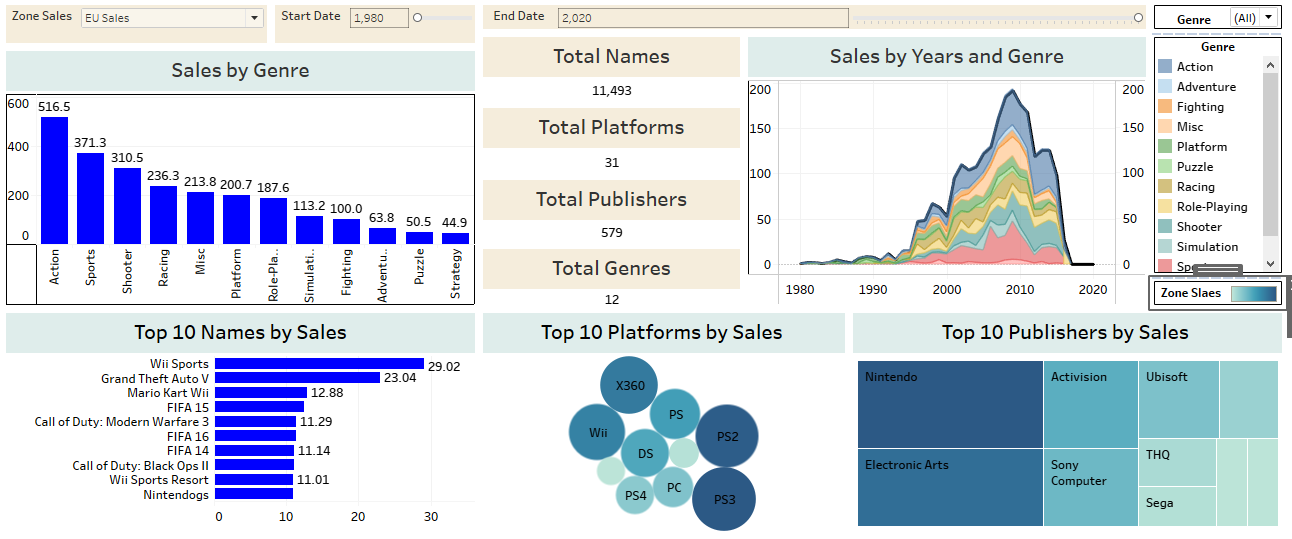

This screenshot's page, from the dashboard's own definition file:
{"tool":"tableau","page":{"name":"Video Games Sales Dashboard","canvas":[1300,550],"ordinal":0},"visuals":[{"type":"parameter","param":"[Parameters].[Parameter 1]","box":[8,8,269,46.3]},{"type":"parameter","param":"[Parameters].[Parameter 2]","box":[277,8,208,46.3]},{"type":"parameter","param":"[Parameters].[Parameter 3]","box":[485,8,671,32]},{"type":"filter","title":"Sales by Years and Genre","param":"[federated.0exvyeo1yf71ah165yyhm1jmh21s].[none:Genre:nk]","box":[1156,8,136,32]},{"type":"worksheet","title":"Total Names","mark":"Automatic","box":[485,40,265,71]},{"type":"worksheet","title":"Sales by Years and Genre","mark":"Automatic","rows":["Calculation_963207425173499904","Calculation_963207425173499904"],"cols":["Year"],"box":[750,40,406,276]},{"type":"legend","title":"Sales by Years and Genre","param":"[federated.0exvyeo1yf71ah165yyhm1jmh21s].[none:Genre:nk]","box":[1156,40,136,244]},{"type":"worksheet","title":"Sales by Genre","mark":"Automatic","rows":["Calculation_963207425173499904"],"cols":["Genre"],"box":[8,54.3,477,261.7]},{"type":"worksheet","title":"Total Platforms","mark":"Automatic","box":[485,111,265,72]},{"type":"worksheet","title":"Total Publishers","mark":"Automatic","box":[485,183,265,69]},{"type":"worksheet","title":"Total Genres","mark":"Automatic","box":[485,252,265,64]},{"type":"legend","title":"Top 10 Platforms by Sales ","param":"[federated.0exvyeo1yf71ah165yyhm1jmh21s].[sum:Calculation_963207425173499904:qk]","box":[1156,284,136,32]},{"type":"worksheet","title":"Top 10 Names by Sales","mark":"Automatic","rows":["Name"],"cols":["Calculation_963207425173499904"],"box":[8,316,477,226]},{"type":"worksheet","title":"Top 10 Platforms by Sales ","mark":"Circle","box":[485,316,370,226]},{"type":"worksheet","title":"Top 10 Publishers by Sales ","mark":"Automatic","box":[855,316,437,226]}]}

Visuals, with their boxes in screenshot pixels (x1, y1, x2, y2), scaled from the page's 1300x550 canvas onto the 1292x539 screenshot:
parameter: 8,8,275,53
parameter: 275,8,482,53
parameter: 482,8,1149,39
"Sales by Years and Genre" filter: 1149,8,1284,39
"Total Names" worksheet: 482,39,745,109
"Sales by Years and Genre" worksheet: 745,39,1149,310
"Sales by Years and Genre" legend: 1149,39,1284,278
"Sales by Genre" worksheet: 8,53,482,310
"Total Platforms" worksheet: 482,109,745,179
"Total Publishers" worksheet: 482,179,745,247
"Total Genres" worksheet: 482,247,745,310
"Top 10 Platforms by Sales " legend: 1149,278,1284,310
"Top 10 Names by Sales" worksheet: 8,310,482,531
"Top 10 Platforms by Sales " worksheet (Circle marks): 482,310,850,531
"Top 10 Publishers by Sales " worksheet: 850,310,1284,531
